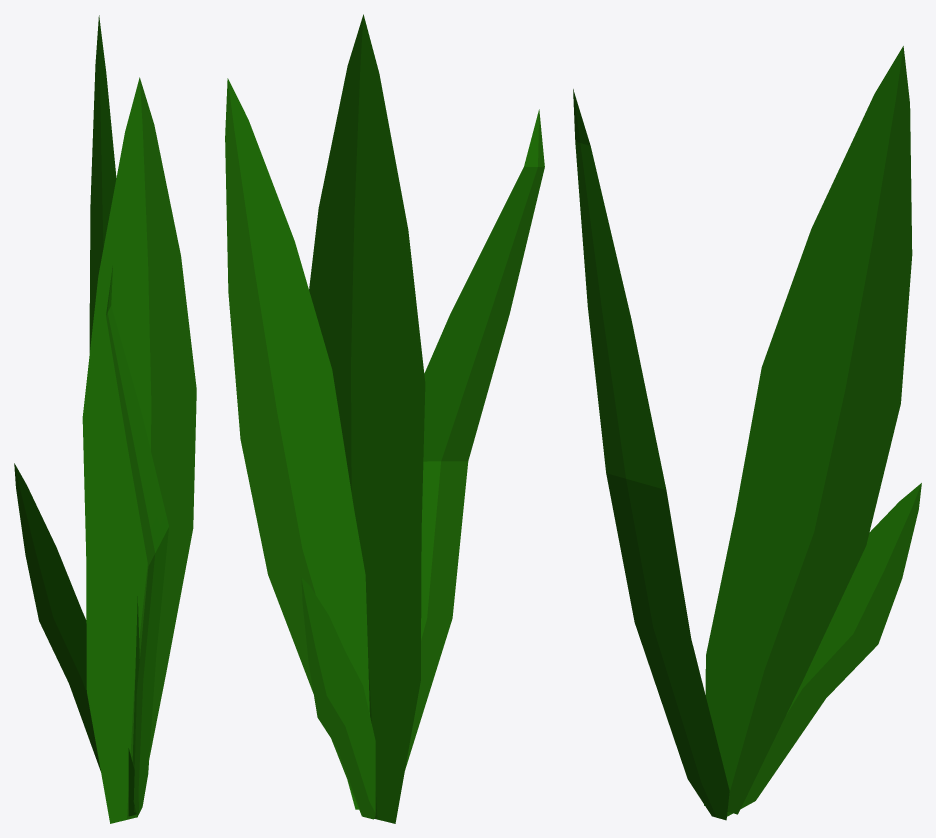
Rendered from cesped basico.fbx.
3 views of the same model, side by side, from view 1: azimuth 30°, elevation 25°; view 2: azimuth 150°, elevation 25°; view 3: azimuth 270°, elevation 25° (orthographic). The views are drawn at different scales.
Visible parts, largest first — view 1: Plano.004; view 2: Plano.004; view 3: Plano.004.
Part boxes in pixels (x1,y1,x2,y2): Plano.004: [14, 15, 196, 823]; Plano.004: [225, 14, 544, 823]; Plano.004: [573, 46, 921, 820].
Bounding box in the file's own units: 34.22 × 153 × 59.85.
